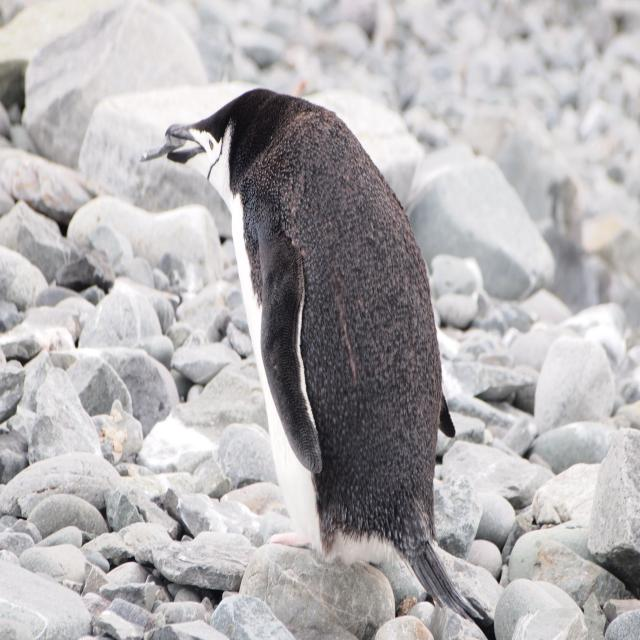Penguins: (162, 56, 451, 572)
